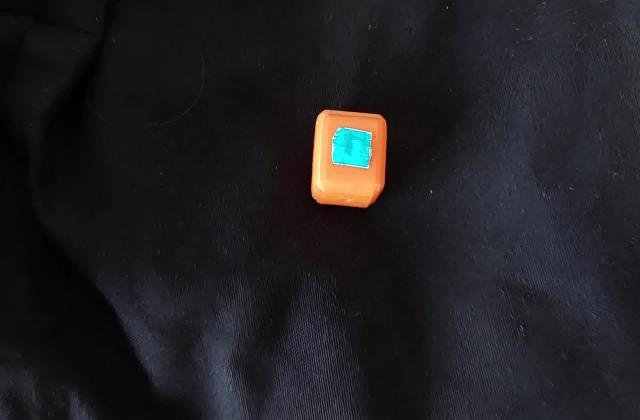blue: (340, 134, 364, 162)
sticker: (309, 107, 389, 212)
